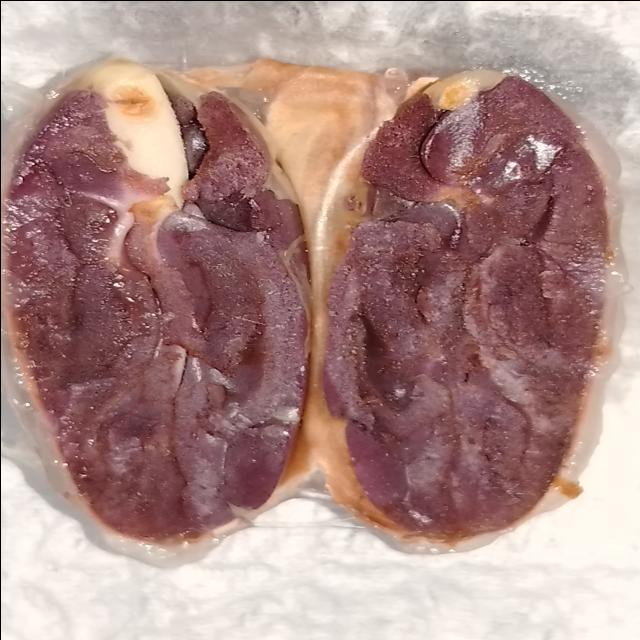Forastero: (0, 60, 311, 553), (320, 71, 608, 548)
